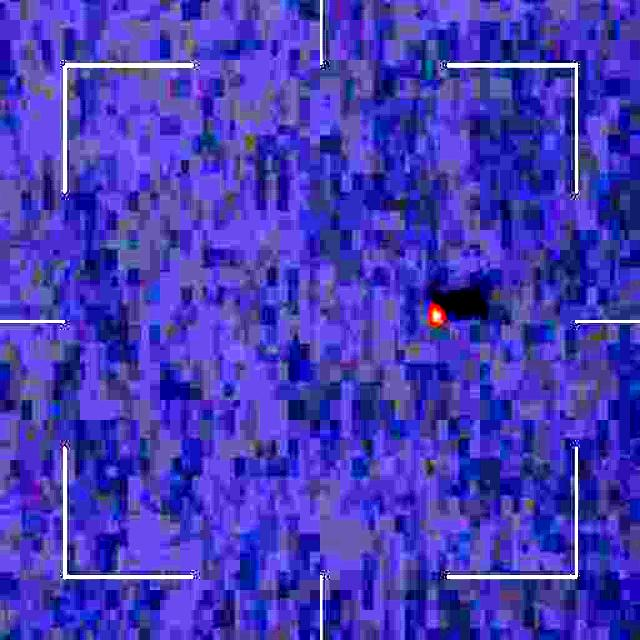bird: (424, 290, 450, 328)
